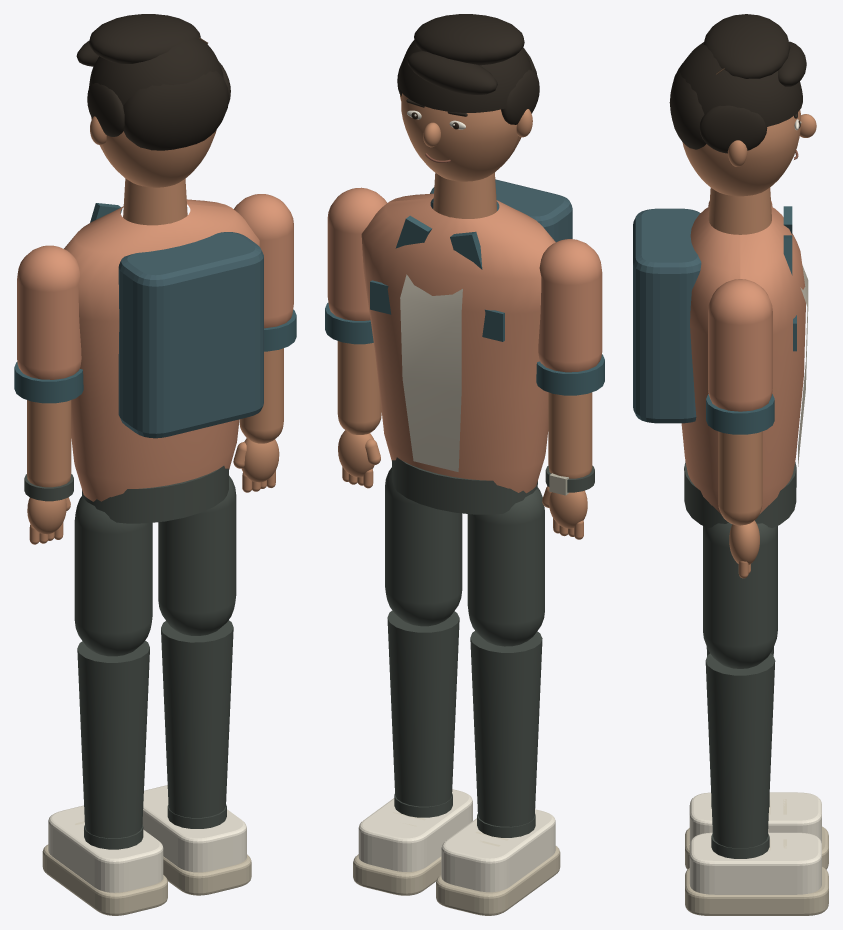
Rendered from gaurav-sunset.glb.
3 renders of one model, left to right at view 1: azimuth 30°, elevation 25°; view 2: azimuth 150°, elevation 25°; view 3: azimuth 270°, elevation 25°, orthographic.
Visible parts, largest first — view 1: CanvasBackpack, LowerChino (×2), Overshirt, UpperChino (×2), SweptQuiff, TailoredSleeve (×2), SneakerUpper (×2), Forearm (×2), SneakerSole (×2), Waist, Face, RolledCuff (×2) (+4 smaller); view 2: Overshirt, LowerChino (×2), UpperChino (×2), TailoredSleeve (×2), SweptQuiff, SneakerUpper (×2), InnerKnitShirt, Forearm (×2), Face, SneakerSole (×2), Waist, RolledCuff (×2) (+8 smaller); view 3: Overshirt, SweptQuiff, CanvasBackpack, LowerChino, SneakerUpper (×2), UpperChino, TailoredSleeve, Face, Forearm, SneakerSole (×2), Neck, Waist (+5 smaller).
Part boxes in pixels (bbox=[...]): CanvasBackpack: bbox=[118, 232, 263, 438]; LowerChino (×2): bbox=[77, 620, 233, 838]; Overshirt: bbox=[64, 199, 259, 501]; UpperChino (×2): bbox=[74, 475, 236, 656]; SweptQuiff: bbox=[76, 14, 230, 150]; TailoredSleeve (×2): bbox=[17, 194, 293, 379]; SneakerUpper (×2): bbox=[48, 785, 246, 892]; Forearm (×2): bbox=[27, 348, 283, 487]; SneakerSole (×2): bbox=[42, 844, 251, 915]; Waist: bbox=[82, 466, 228, 523]; Face: bbox=[91, 117, 216, 187]; RolledCuff (×2): bbox=[14, 309, 296, 403]; Overshirt: bbox=[361, 193, 555, 493]; LowerChino (×2): bbox=[387, 610, 542, 826]; UpperChino (×2): bbox=[385, 467, 544, 646]; TailoredSleeve (×2): bbox=[327, 187, 602, 372]; SweptQuiff: bbox=[397, 14, 539, 124]; SneakerUpper (×2): bbox=[358, 789, 555, 892]; InnerKnitShirt: bbox=[400, 274, 462, 471]; Forearm (×2): bbox=[337, 341, 592, 478]; Face: bbox=[401, 93, 521, 181]; SneakerSole (×2): bbox=[353, 846, 560, 915]; Waist: bbox=[392, 457, 537, 514]; RolledCuff (×2): bbox=[325, 303, 604, 395]; Overshirt: bbox=[681, 206, 805, 514]; SweptQuiff: bbox=[669, 14, 806, 153]; CanvasBackpack: bbox=[633, 208, 701, 423]; LowerChino: bbox=[705, 653, 775, 848]; SneakerUpper (×2): bbox=[689, 792, 821, 894]; UpperChino: bbox=[703, 522, 777, 668]; TailoredSleeve: bbox=[708, 279, 772, 411]; Face: bbox=[682, 109, 800, 196]; Forearm: bbox=[718, 431, 762, 525]; SneakerSole (×2): bbox=[685, 826, 828, 915]; Neck: bbox=[708, 187, 771, 234]; Waist: bbox=[684, 461, 796, 527].
Size of the model in its own units: 0.6578 by 1.99 by 0.416.
